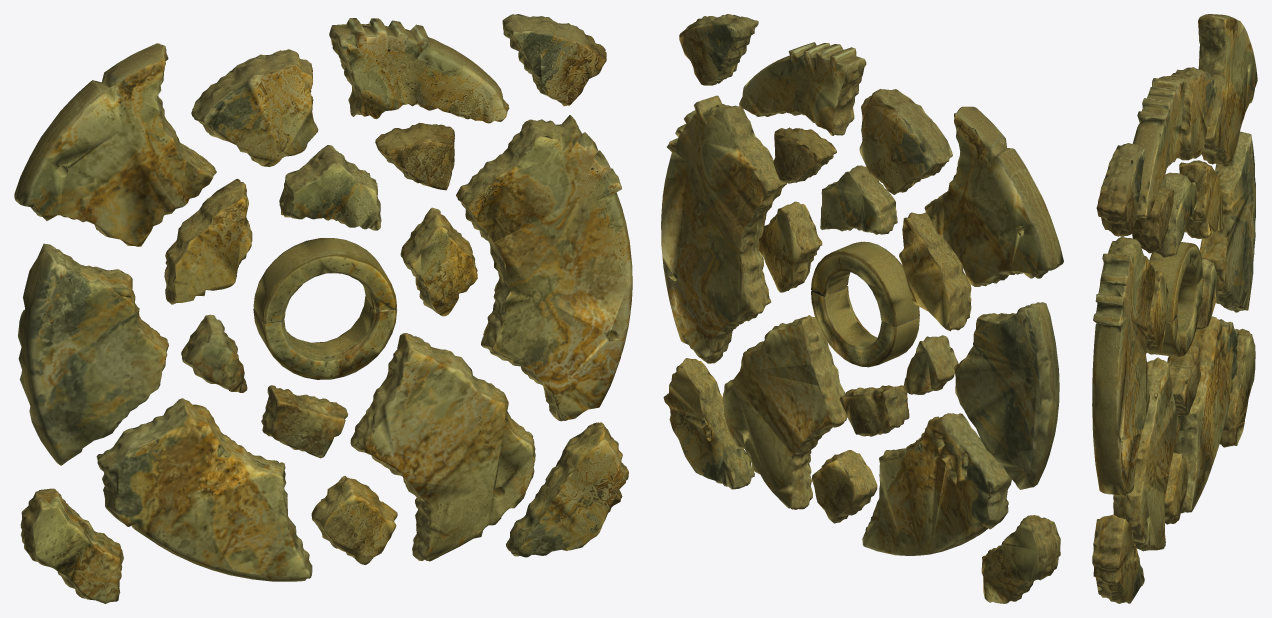
File: 12-jade-fragment.glb
3 renders of one model, left to right at view 1: azimuth 30°, elevation 25°; view 2: azimuth 150°, elevation 25°; view 3: azimuth 270°, elevation 25°, orthographic. The views are drawn at different scales.
Visible parts, largest first — view 1: Meshy_AI_Shattered_Jade_Sun_0817194809_texture; view 2: Meshy_AI_Shattered_Jade_Sun_0817194809_texture; view 3: Meshy_AI_Shattered_Jade_Sun_0817194809_texture.
Boxes of the visible parts, x1,y1,x2,y2 form: Meshy_AI_Shattered_Jade_Sun_0817194809_texture: (14, 14, 632, 603); Meshy_AI_Shattered_Jade_Sun_0817194809_texture: (661, 14, 1063, 603); Meshy_AI_Shattered_Jade_Sun_0817194809_texture: (1092, 14, 1257, 603).
Bounding box in the file's own units: 0.6685 × 0.6596 × 0.2195.
Materials: 1 (1 with a texture image).
